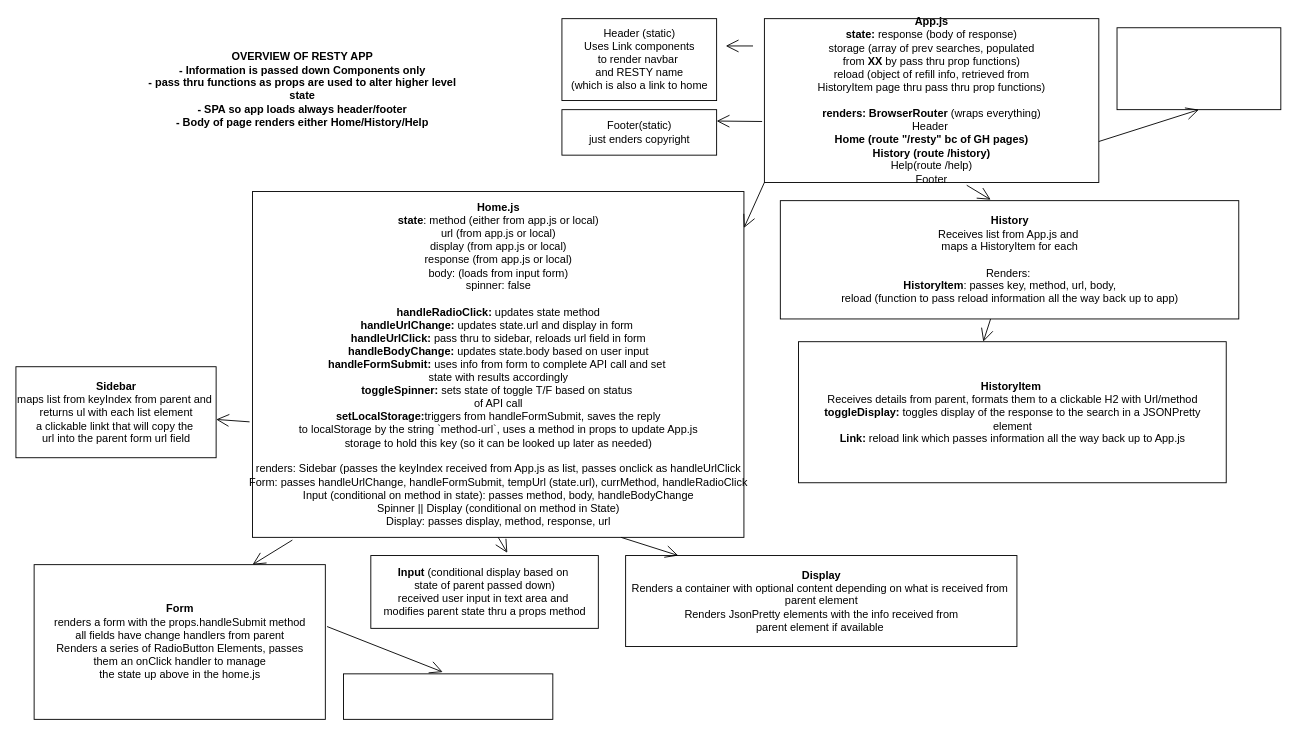
This 1297x735 diagram has some shape labels left out. The centre of each missing label's shape, as x and y in pixels:
"Help.js Renders MD from the main repo readme" goes at pixel 1198 68.
"RadioButton Renders a radio button and a calls a click method from parent" goes at pixel 448 696.
